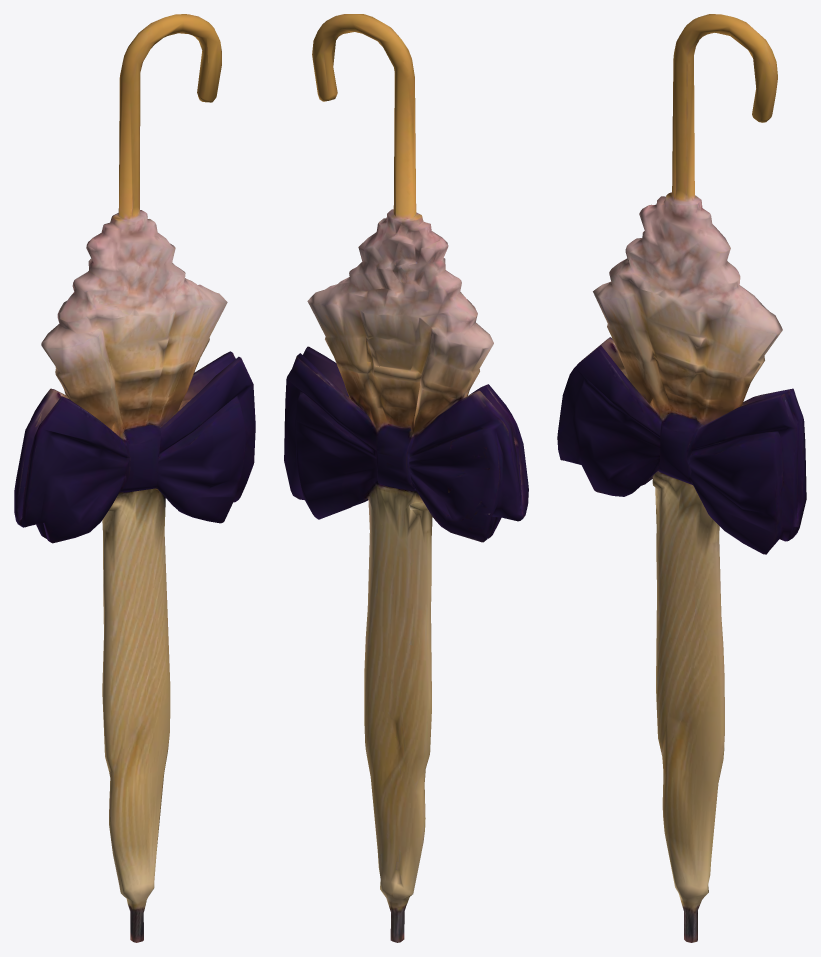
Rendered from umbrella.glb.
3 renders of one model, left to right at view 1: azimuth 30°, elevation 25°; view 2: azimuth 150°, elevation 25°; view 3: azimuth 330°, elevation 25°, orthographic.
Parts seen in each view (by area): view 1: material; view 2: material; view 3: material.
Part boxes in pixels (bbox=[...]): material: bbox=[14, 14, 255, 942]; material: bbox=[284, 14, 528, 942]; material: bbox=[557, 14, 806, 942].
Size of the model in its own units: 0.3149 by 1.19 by 0.0723.
Materials: 1 (1 with a texture image).
